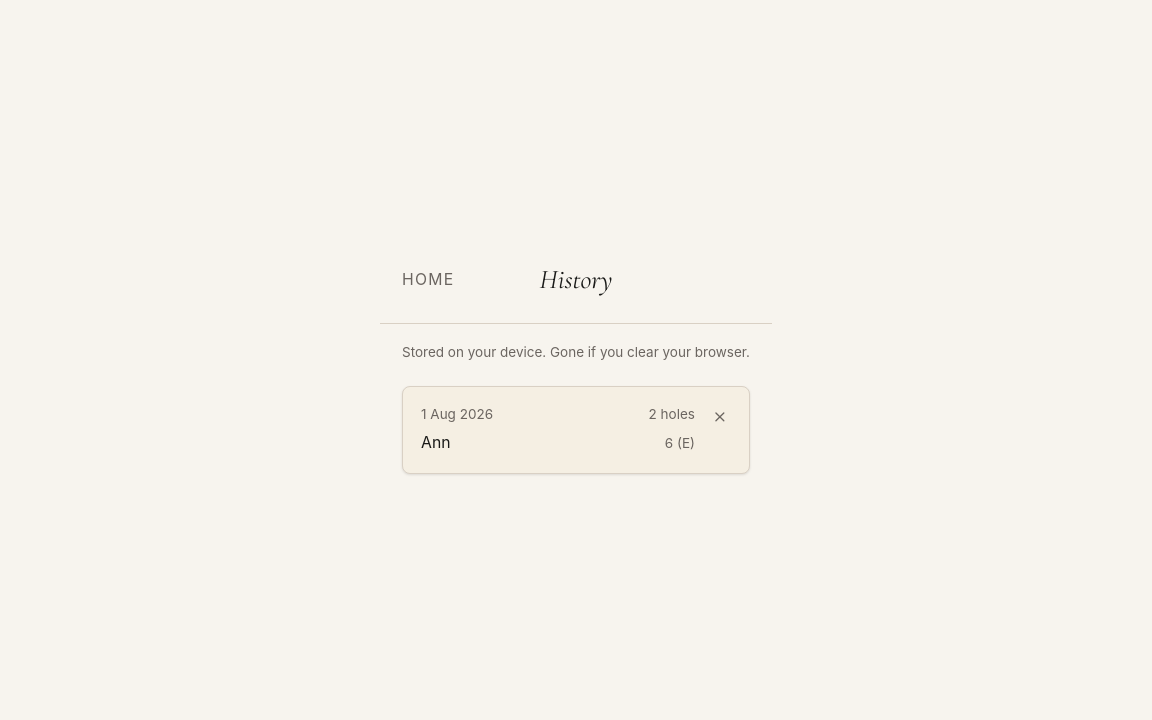
Test: History - delete control › is labelled "Delete round" (the UI says round, not game) and opens the confirm sheet
Step 1. Click the button named "Delete round" → (720, 416), box [695,392,744,441]
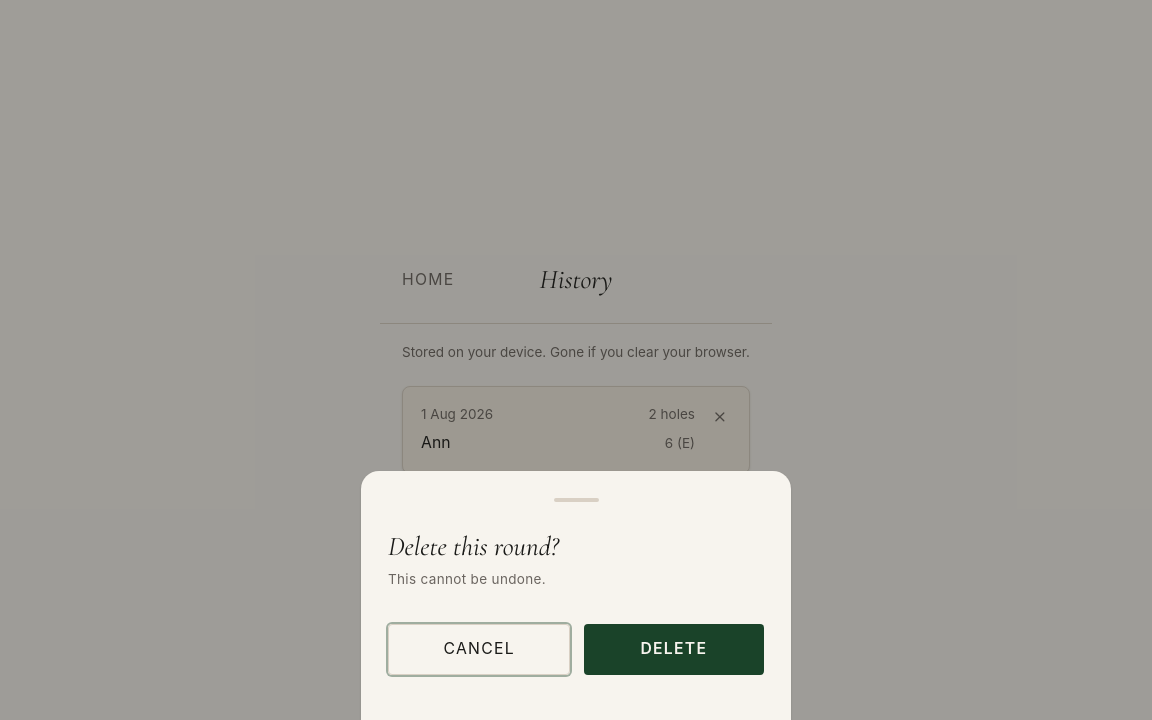
Now the dialog is shown, box [361,470,791,719]
